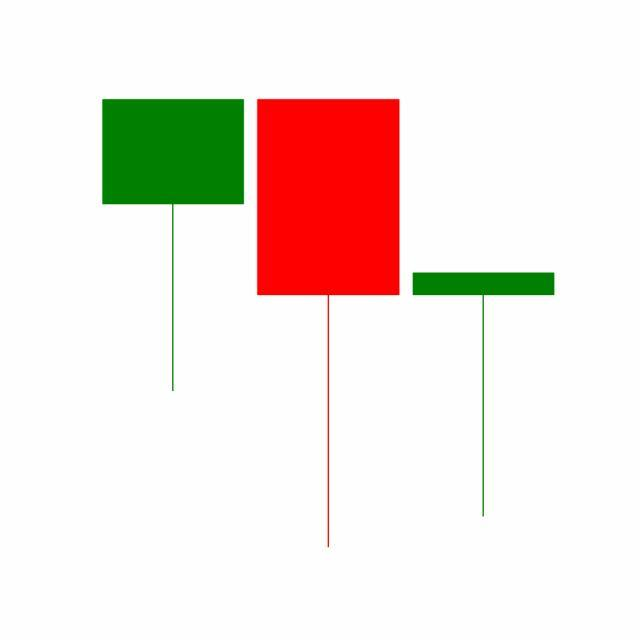Hanging Man: (406, 270, 562, 520)
